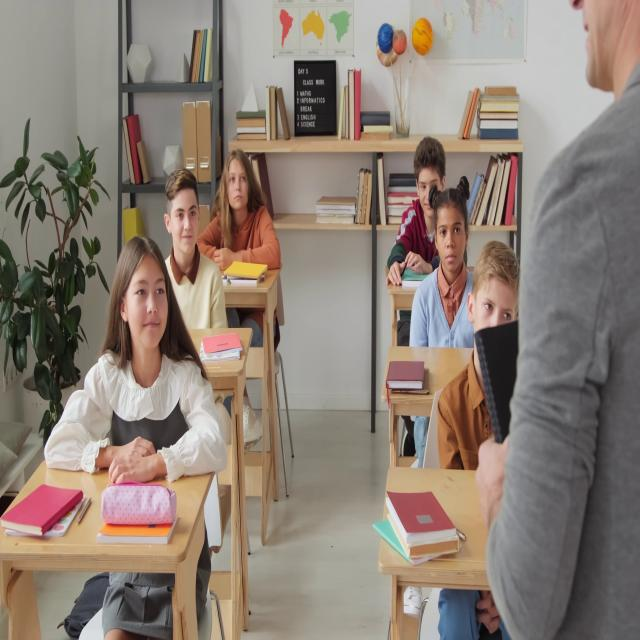listening: (43, 237, 230, 636), (203, 150, 284, 432), (435, 242, 523, 477), (380, 126, 469, 294), (409, 182, 476, 354), (162, 168, 228, 333)
